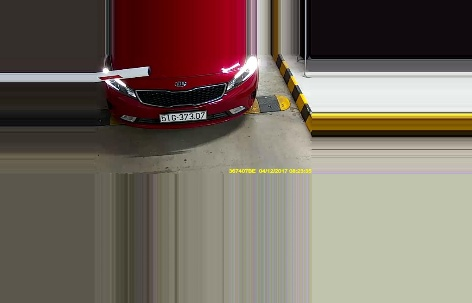plate: (158, 109, 208, 121)
